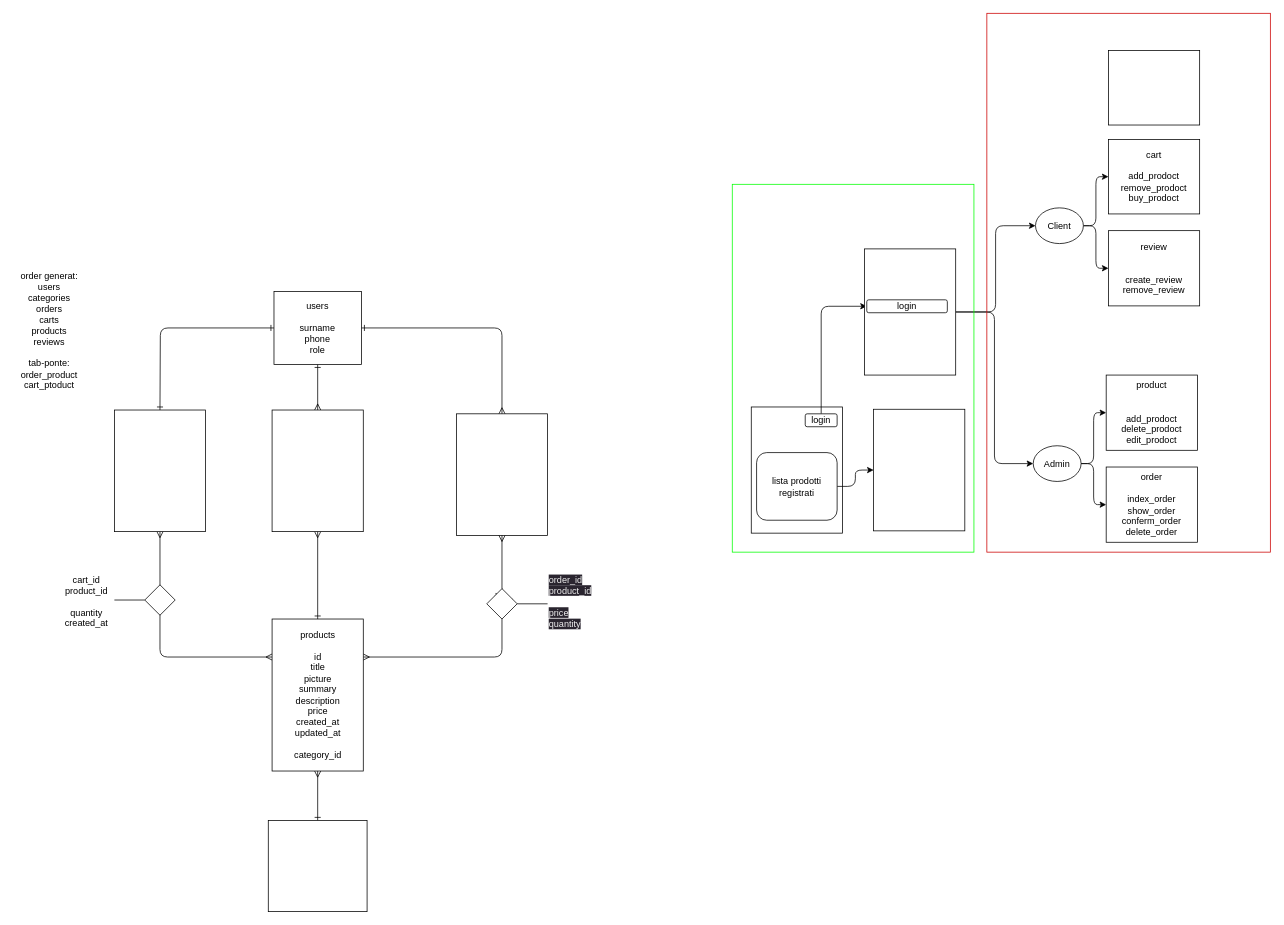
This 1284x925 diagram has some shape labels left out. The centre of each missing label's shape, as x and y in pixels:
"carts id status created_at updated_at user_id" goes at point 160,470.
"categories id name description created_at updated_at" goes at point 317,866.
"dettail_product" goes at point 919,469.
"order index_order show_order" goes at point 1154,87.
"orders id created_at updated_at user_id" goes at point 502,474.
"reviews id rating comment created_at user_id product_id" goes at point 317,470.
